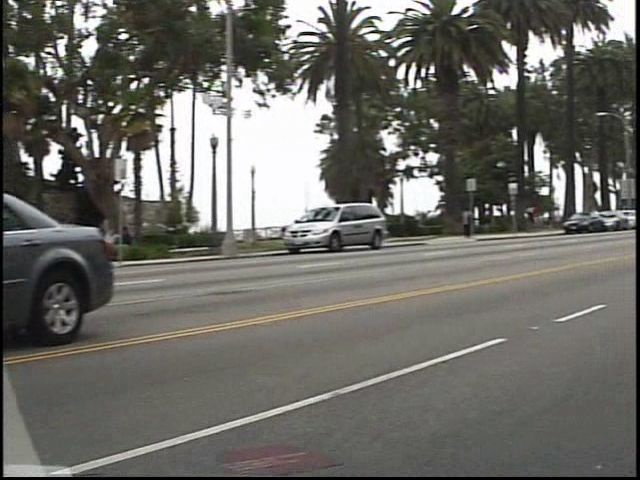person: (468, 201, 490, 241), (535, 200, 555, 234)
